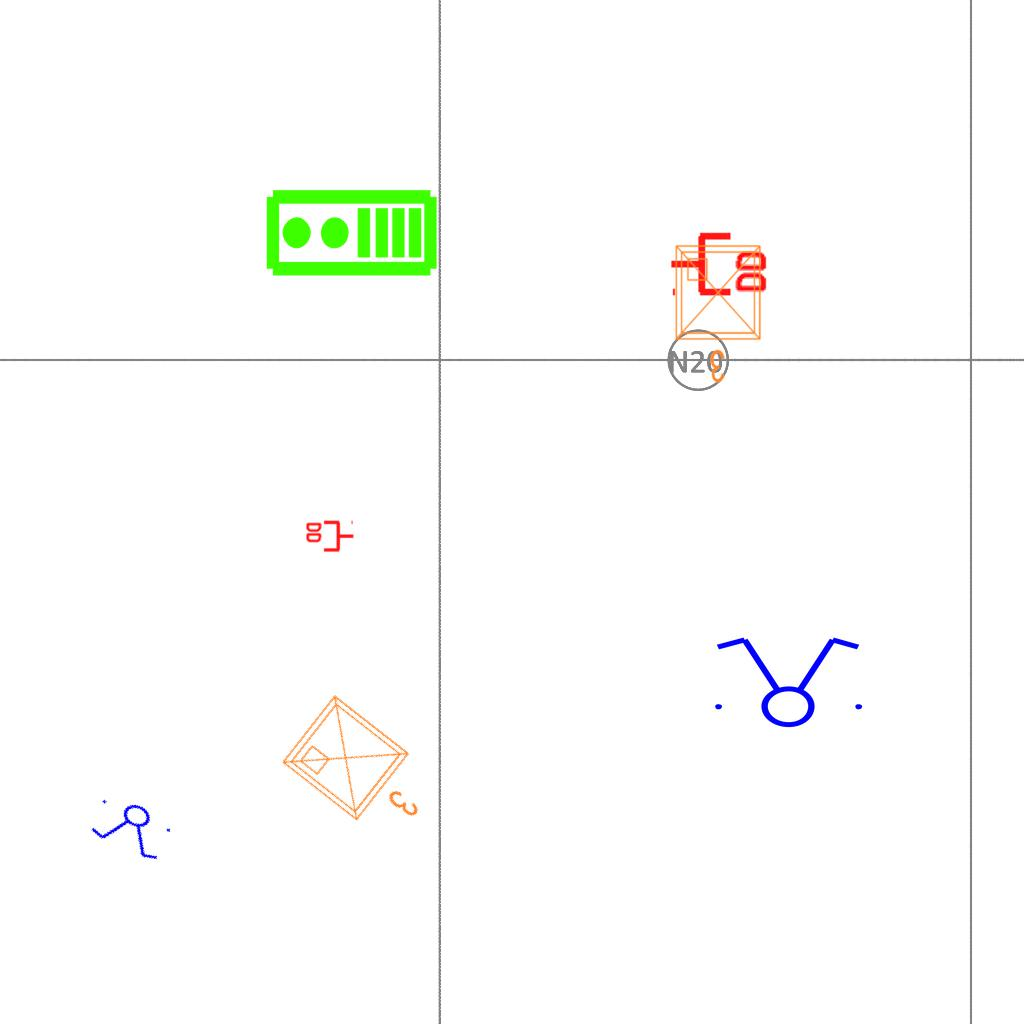Datenanschluss_zweifach: (668, 228, 771, 297), (304, 520, 355, 554)
Einbaudownlights_LED_Konferenzraeume: (271, 681, 455, 857), (668, 238, 772, 388)
Gegensprechanlage_mit_Video: (263, 187, 439, 282)
Serienschalter: (703, 633, 871, 729), (83, 788, 181, 868)
